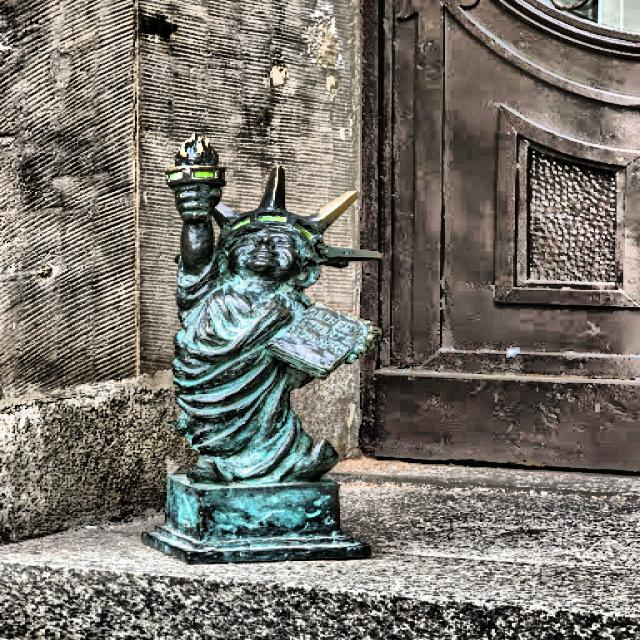LadyWolnosc: (143, 135, 379, 563)
